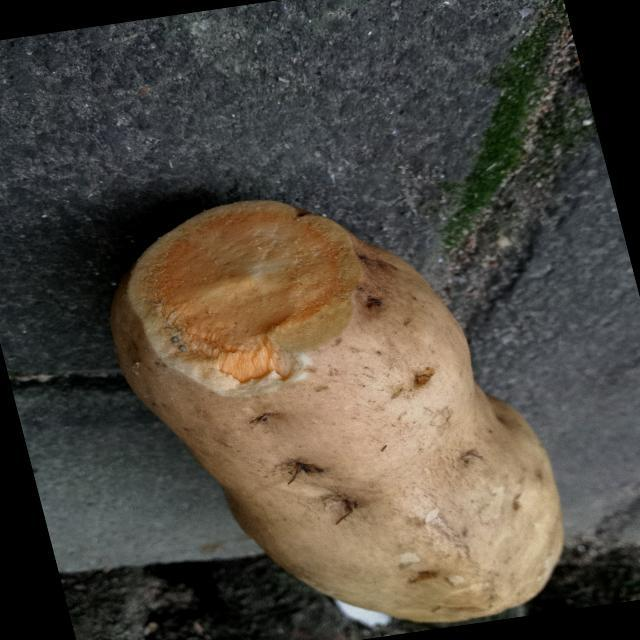Healthy Sweet Potato: (152, 201, 360, 382)
